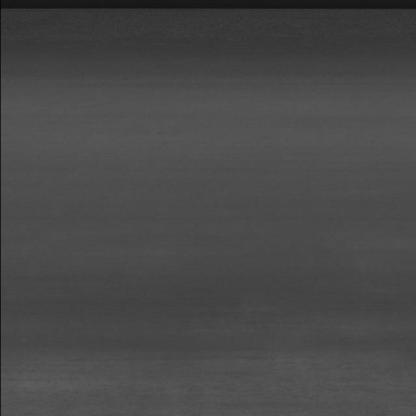silk_spot: (104, 342, 356, 413)
